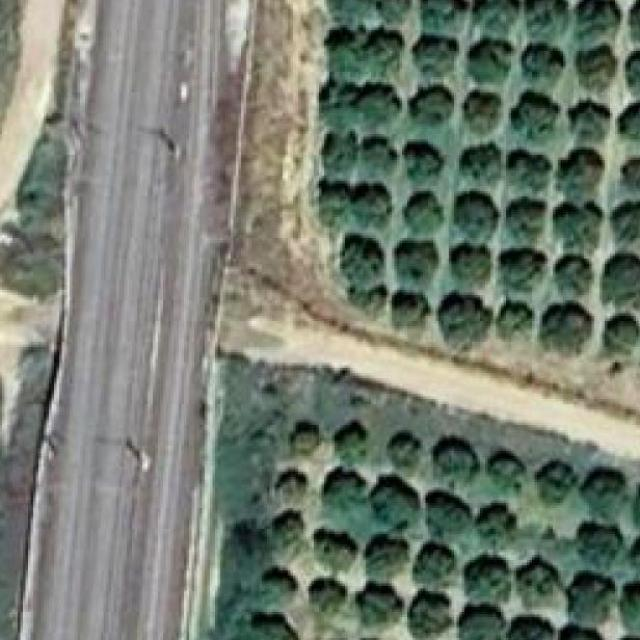Tree: (345, 179, 398, 236), (511, 557, 561, 616), (358, 527, 408, 583), (459, 186, 506, 244), (556, 144, 606, 194), (324, 473, 375, 522), (431, 438, 480, 488), (414, 77, 462, 128), (522, 40, 570, 90), (474, 498, 524, 546), (506, 144, 552, 196), (329, 420, 372, 475), (500, 245, 548, 294), (407, 537, 455, 586), (459, 552, 508, 600), (444, 295, 491, 345), (604, 246, 640, 311), (354, 584, 398, 637), (319, 126, 363, 178), (257, 563, 301, 615), (551, 192, 591, 249), (420, 490, 470, 535), (577, 518, 622, 568), (462, 92, 504, 144), (485, 453, 528, 502), (267, 511, 308, 562), (521, 0, 577, 37), (355, 87, 402, 130), (466, 41, 514, 83), (515, 96, 559, 141), (574, 101, 617, 146), (402, 189, 444, 235), (410, 593, 451, 640), (379, 481, 422, 525), (571, 0, 622, 37), (551, 304, 590, 352), (400, 232, 437, 282), (452, 236, 493, 281), (566, 576, 604, 624), (540, 456, 577, 505), (577, 44, 620, 86), (501, 200, 542, 243), (412, 28, 451, 73), (379, 430, 424, 469), (366, 30, 402, 78), (303, 576, 339, 624), (387, 290, 428, 332), (467, 0, 512, 37), (314, 532, 356, 571), (496, 303, 533, 347), (314, 186, 349, 232), (602, 310, 640, 352), (244, 612, 301, 640), (452, 603, 495, 640), (504, 610, 557, 640), (283, 420, 328, 455), (589, 472, 630, 510), (324, 25, 361, 66), (408, 142, 442, 186), (558, 251, 593, 293), (610, 194, 640, 243), (410, 0, 466, 26), (468, 144, 508, 179), (374, 0, 419, 29), (350, 246, 381, 288), (364, 139, 401, 174), (617, 578, 640, 634), (347, 283, 381, 318), (322, 82, 351, 123), (276, 468, 308, 502), (623, 101, 640, 153), (329, 0, 370, 21), (625, 46, 640, 94), (620, 153, 640, 189), (625, 0, 640, 44), (553, 624, 594, 640), (599, 625, 640, 640), (630, 485, 640, 525), (632, 537, 640, 574)
